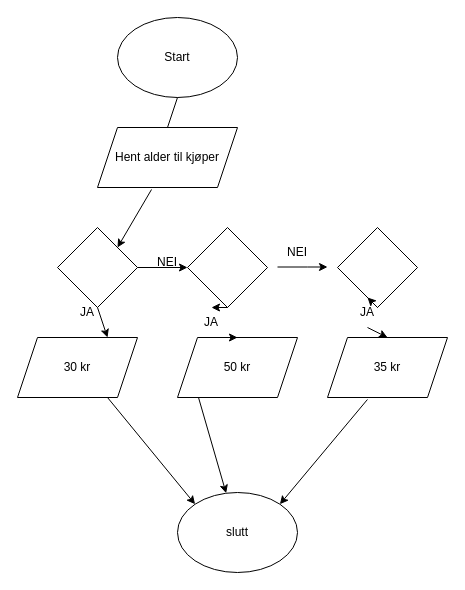
Image size: 465x590. Some labels were removed from this diagram. Here are the shapes that lost their labels. From the top down, the centre of each, then its label:
At (97,267): "alder <= 15".
At (227,267): "alder >= 16".
At (377,267): "alder >= 67".
